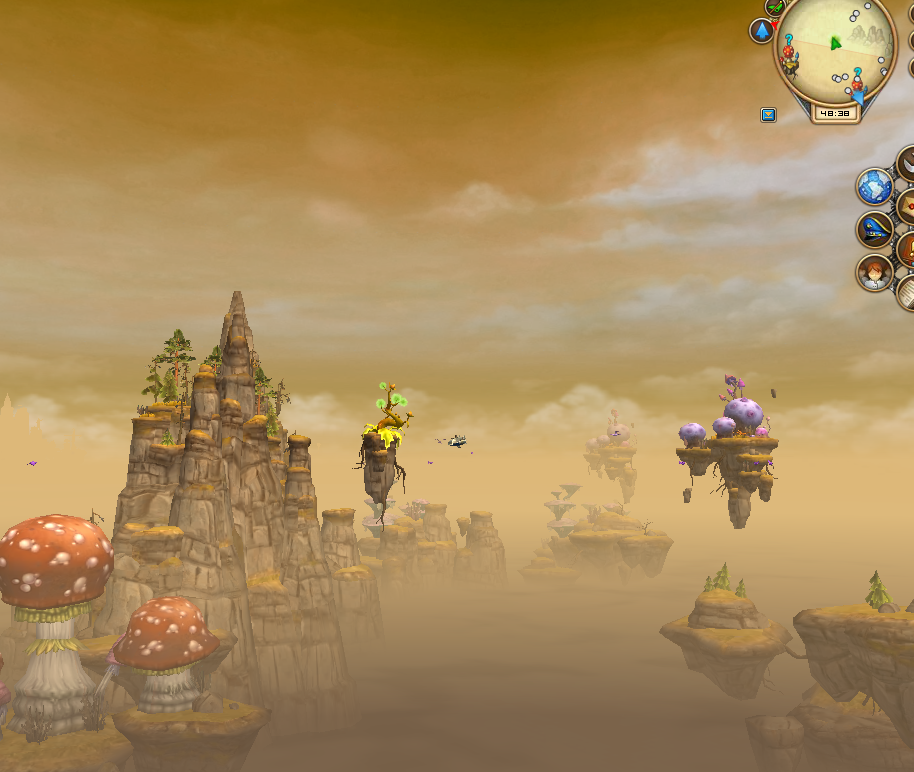dandelion-full: (353, 372, 409, 503)
